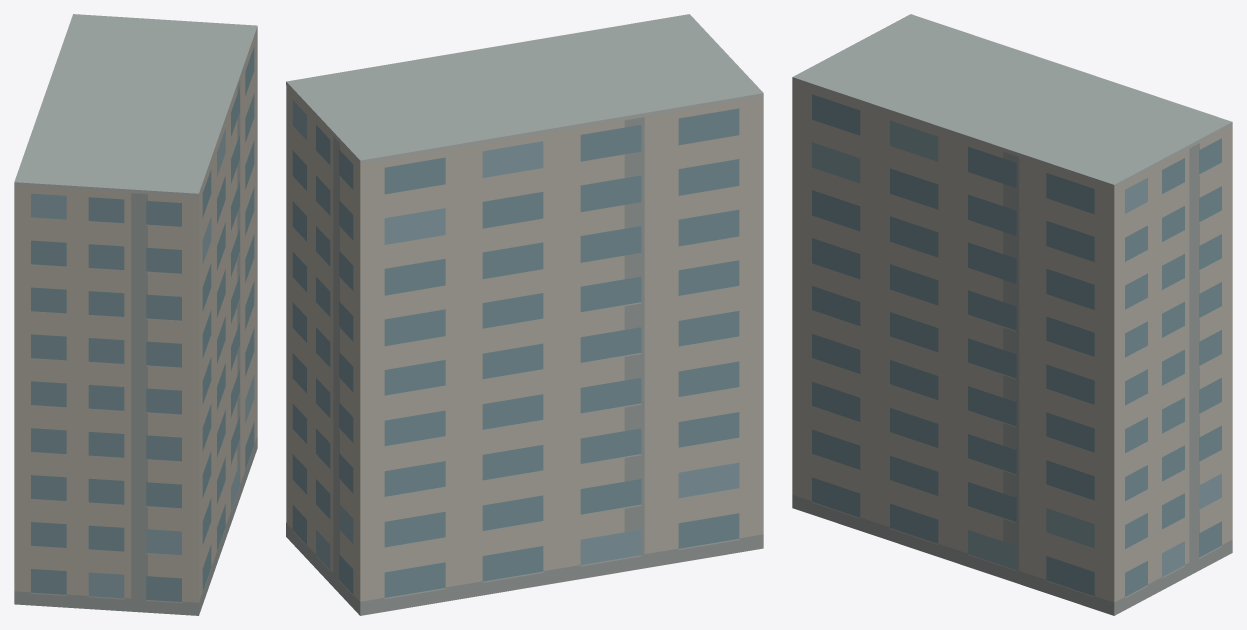
Rendered from residential-de6c6a89-0dbb-43e5-9d1e-fbeda43d26ec.glb.
3 views of the same model, side by side, from view 1: azimuth 30°, elevation 25°; view 2: azimuth 150°, elevation 25°; view 3: azimuth 270°, elevation 25° (orthographic). The views are drawn at different scales.
Visible parts, largest first — view 1: residential-de6c6a89-0dbb-43e5-9d1e-fbeda43d26ec.tmp; view 2: residential-de6c6a89-0dbb-43e5-9d1e-fbeda43d26ec.tmp; view 3: residential-de6c6a89-0dbb-43e5-9d1e-fbeda43d26ec.tmp.
Boxes of the visible parts, left/top/right/bottom form: residential-de6c6a89-0dbb-43e5-9d1e-fbeda43d26ec.tmp: left=14, top=14, right=257, bottom=615; residential-de6c6a89-0dbb-43e5-9d1e-fbeda43d26ec.tmp: left=286, top=14, right=763, bottom=615; residential-de6c6a89-0dbb-43e5-9d1e-fbeda43d26ec.tmp: left=792, top=14, right=1232, bottom=615.
Size of the model in its own units: 23.82 by 28 by 25.92.
